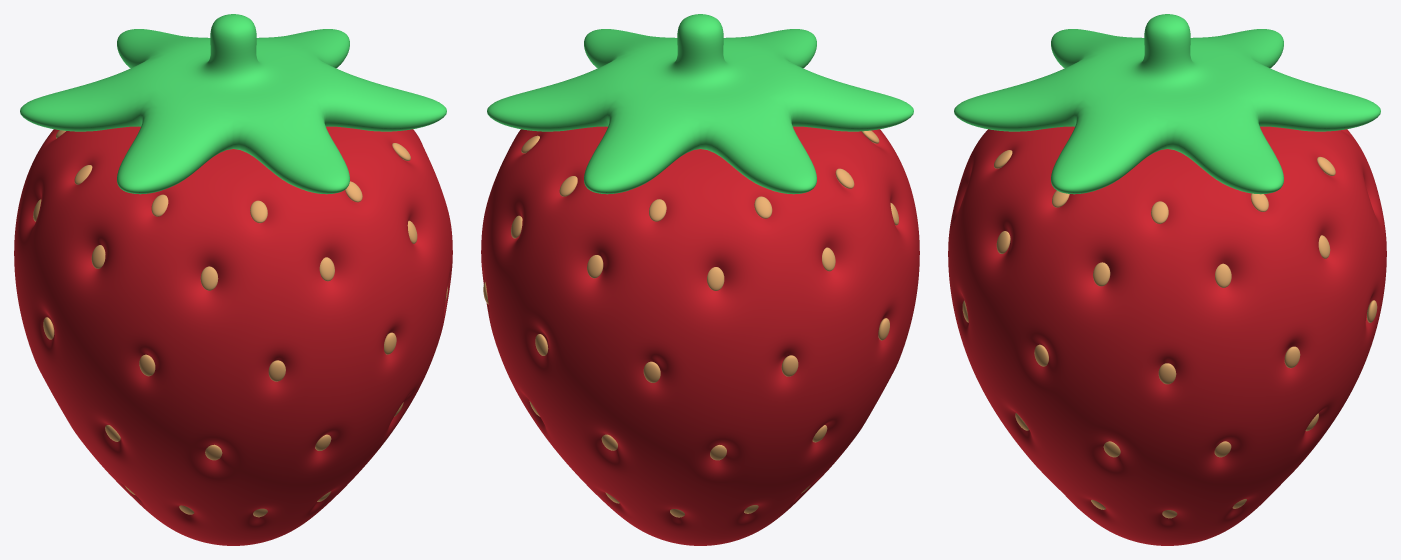
Rendered from Ichigomodel_AR_Ohno.glb.
3 views of the same model, side by side, from view 1: azimuth 30°, elevation 25°; view 2: azimuth 150°, elevation 25°; view 3: azimuth 270°, elevation 25° (orthographic).
Parts seen in each view (by area): view 1: 球.013; view 2: 球.013; view 3: 球.013.
Part boxes in pixels (box(x1,y1,x2,y2)): 球.013: box(14, 14, 452, 545); 球.013: box(481, 14, 919, 545); 球.013: box(948, 14, 1386, 545).
Bounding box in the file's own units: 0.767 × 0.9985 × 0.7673.
